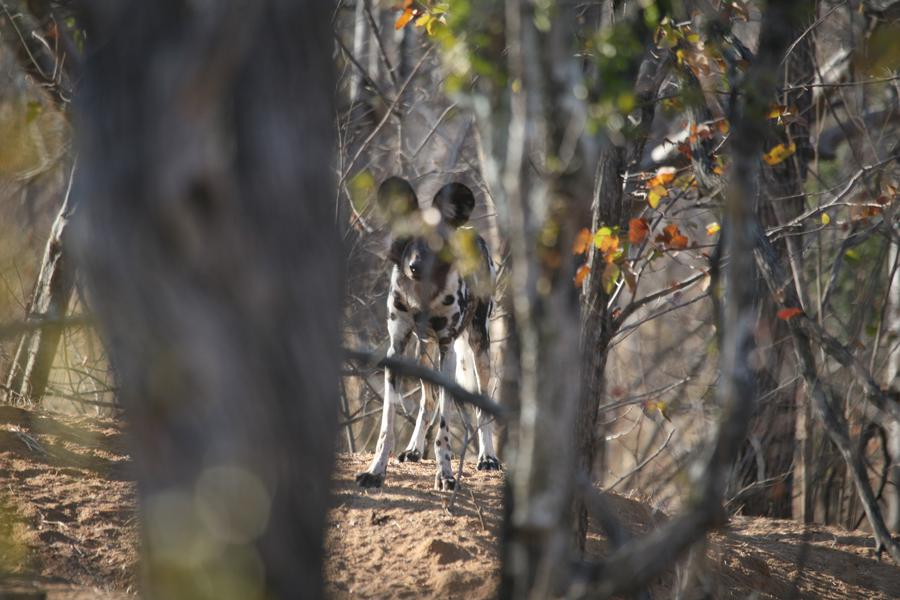wilddog: (348, 218, 481, 455)
